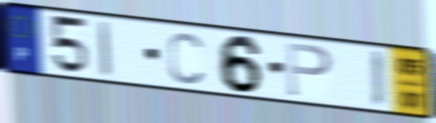5: (45, 12, 90, 76)
6: (218, 33, 268, 96)
C: (166, 29, 206, 86)
I: (368, 47, 388, 110), (97, 18, 114, 80)
P: (284, 40, 335, 100)
